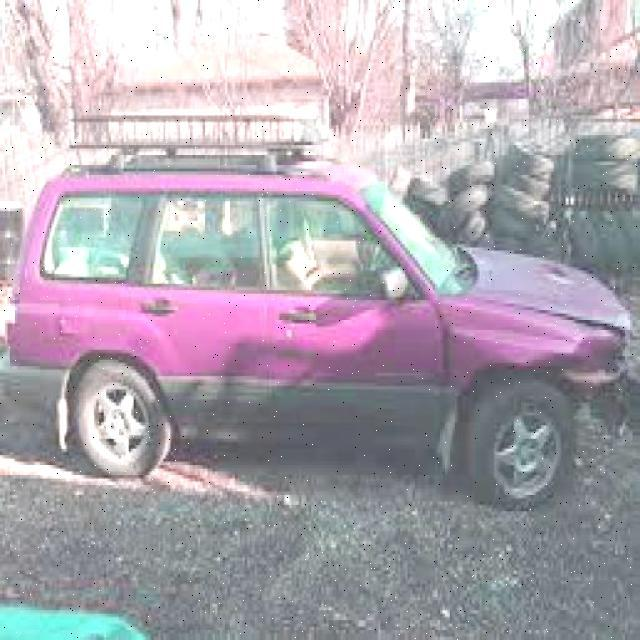car damage: (435, 289, 639, 462)
